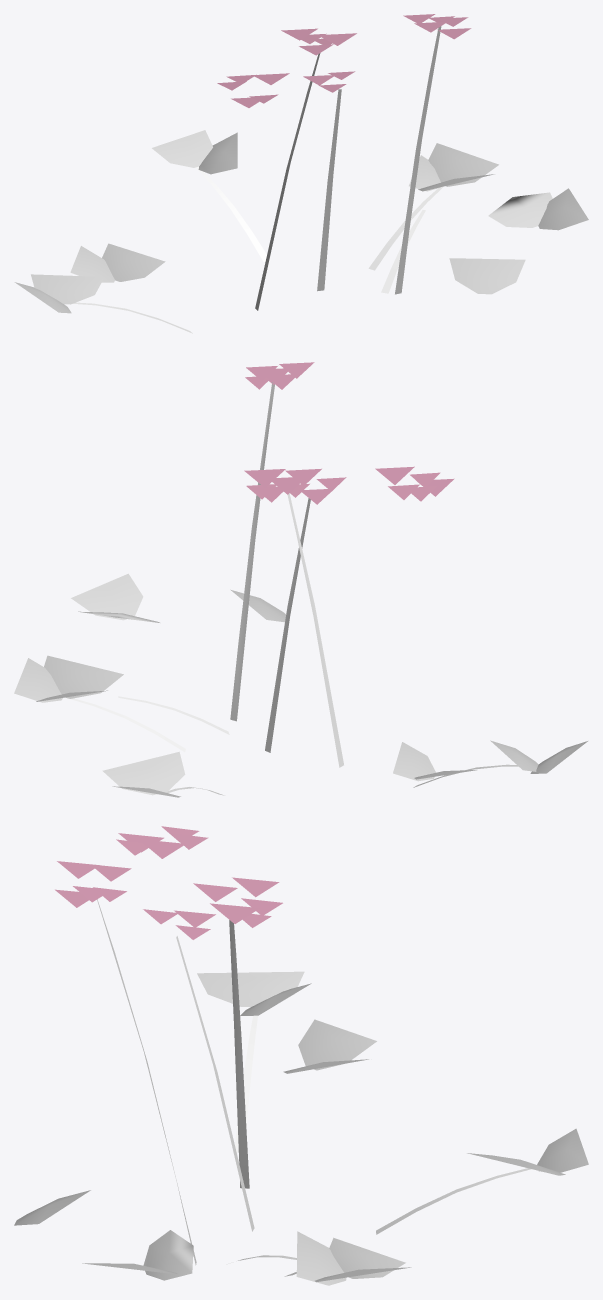
The model's file is RedCloverTuft_LOD0.glb.
3 views of the same model, one above another, from view 1: azimuth 30°, elevation 25°; view 2: azimuth 150°, elevation 25°; view 3: azimuth 270°, elevation 25° (orthographic). The views are drawn at different scales.
Parts seen in each view (by area): view 1: RedCloverTuft_LOD0; view 2: RedCloverTuft_LOD0; view 3: RedCloverTuft_LOD0.
Part boxes in pixels (x1,y1,x2,y2): RedCloverTuft_LOD0: [14, 14, 588, 333]; RedCloverTuft_LOD0: [14, 362, 587, 797]; RedCloverTuft_LOD0: [14, 826, 588, 1285].
Bounding box in the file's own units: 1.15 × 0.6805 × 0.8974.
